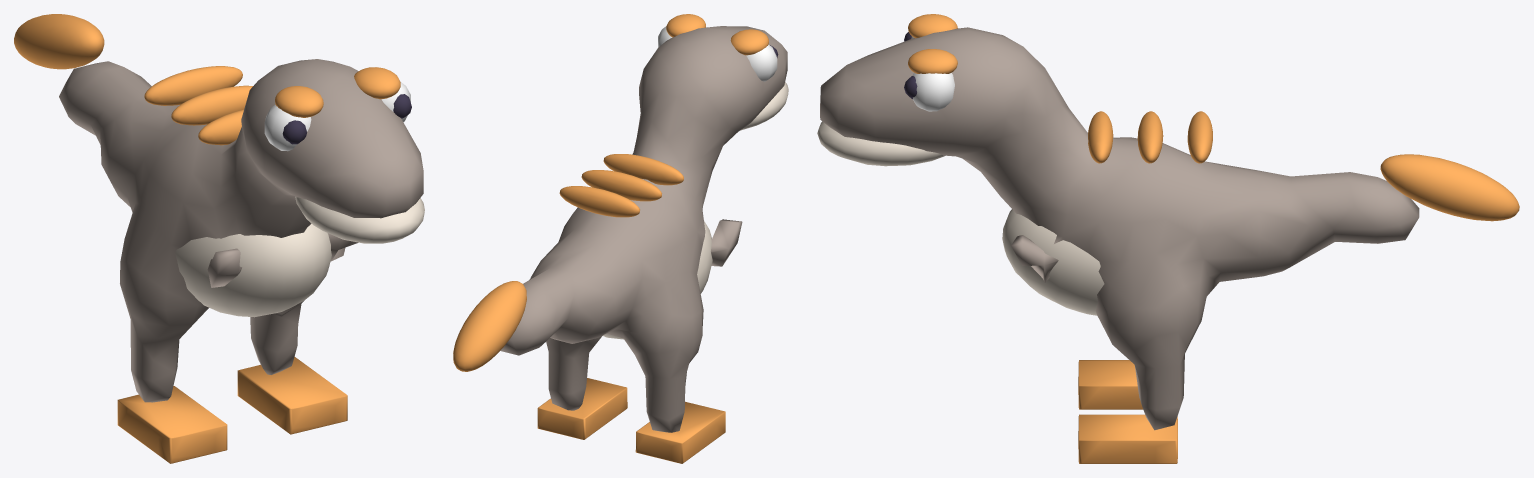
File: Dino_Giganotosaurus.fbx
The picture shows the model from 3 angles, left to right: view 1: azimuth 30°, elevation 25°; view 2: azimuth 150°, elevation 25°; view 3: azimuth 270°, elevation 25°; orthographic projection. The views are drawn at different scales.
Parts seen in each view (by area): view 1: Body.014, Accent.014, Belly.014, EyeWhite.014, Pupil.014; view 2: Body.014, Accent.014, Belly.014, EyeWhite.014; view 3: Body.014, Accent.014, Belly.014, EyeWhite.014.
Boxes of the visible parts, x1=… form: Body.014: x1=59, y1=59, x2=423, y2=402; Accent.014: x1=14, y1=14, x2=400, y2=463; Belly.014: x1=175, y1=196, x2=424, y2=317; EyeWhite.014: x1=264, y1=82, x2=410, y2=151; Pupil.014: x1=282, y1=94, x2=411, y2=144; Body.014: x1=500, y1=26, x2=787, y2=432; Accent.014: x1=453, y1=14, x2=768, y2=463; Belly.014: x1=603, y1=82, x2=788, y2=339; EyeWhite.014: x1=658, y1=26, x2=777, y2=81; Body.014: x1=820, y1=27, x2=1419, y2=430; Accent.014: x1=908, y1=14, x2=1519, y2=463; Belly.014: x1=817, y1=121, x2=1104, y2=315; EyeWhite.014: x1=911, y1=36, x2=954, y2=111.
Bounding box in the file's own units: 1.77 × 3.87 × 6.33.
